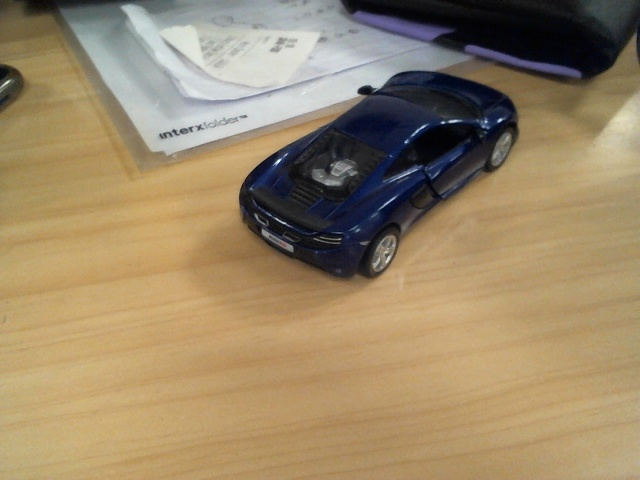car: (239, 70, 520, 280)
